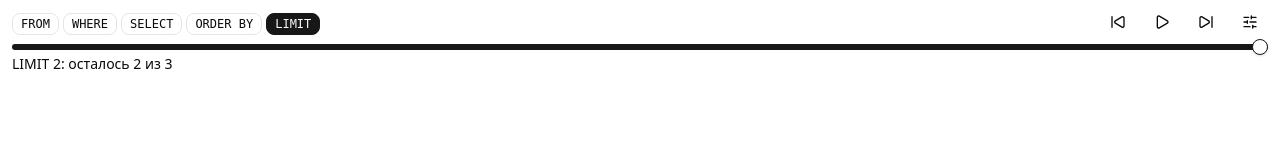
Timeline › клик по чипу прыгает к концу стадии мгновенно
Click the button with test id "stage-chip" showing "WHERE": (90, 24) [63,12,117,34]
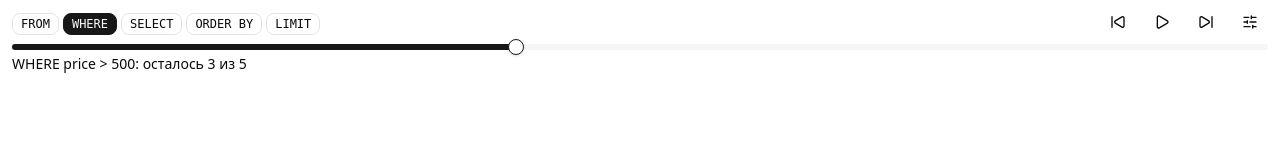
Now the text with test id "timeline-caption" reads "WHERE price > 500: осталось 3 из 5", box [12,54,247,73]
